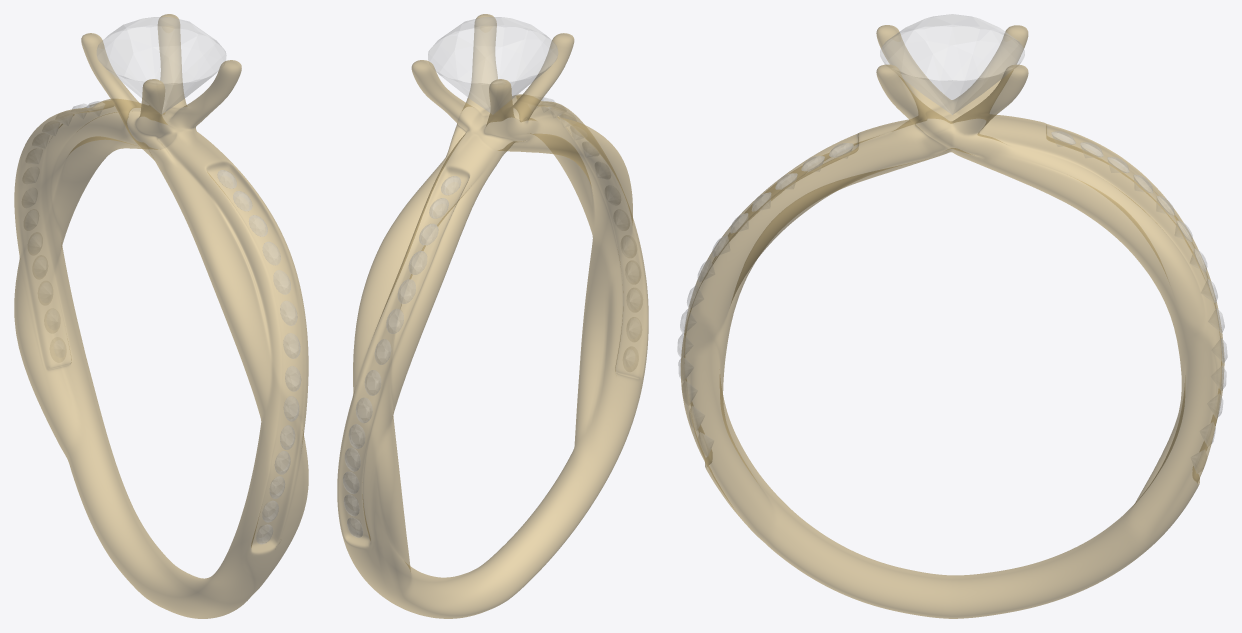
3 views of the same model, side by side, from view 1: azimuth 30°, elevation 25°; view 2: azimuth 150°, elevation 25°; view 3: azimuth 270°, elevation 25° (orthographic). The views are drawn at different scales.
Visible parts, largest first — view 1: Ring, Diamond; view 2: Ring, Diamond; view 3: Ring, Diamond.
Boxes of the visible parts, x1,y1,x2,y2 form: Ring: [14, 14, 308, 618]; Diamond: [22, 17, 300, 544]; Ring: [337, 14, 648, 618]; Diamond: [343, 17, 642, 537]; Ring: [680, 25, 1224, 618]; Diamond: [677, 14, 1227, 472].
Size of the model in its own units: 0.5543 by 2.73 by 2.32.
